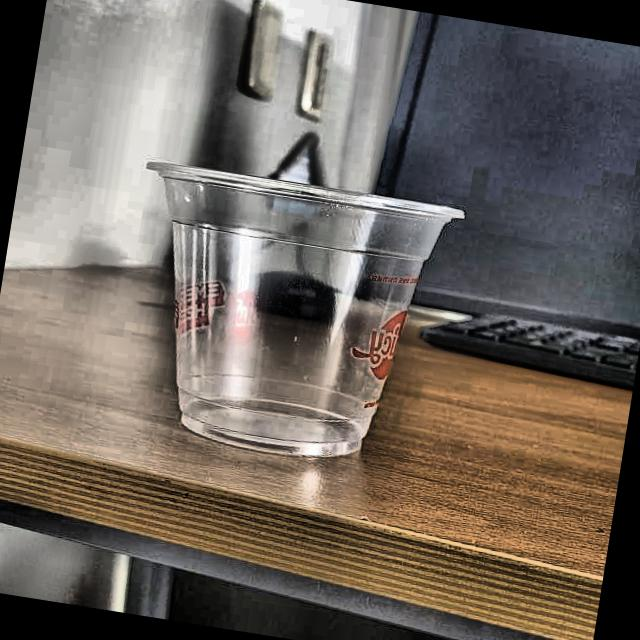plastic cup: (103, 154, 470, 478)
